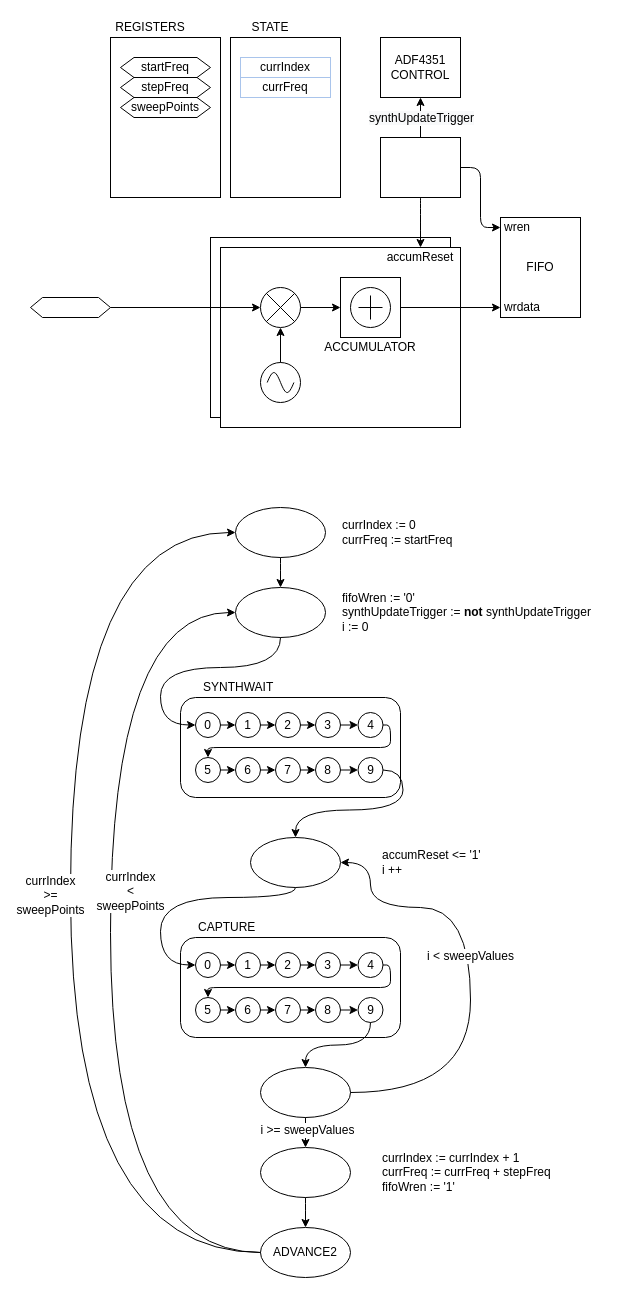
Some shapes in this 628 by 1295 pixel diagram are drawn without their labels. Each missing label, with the centre of its shape:
"ADVANCE" goes at point 305,1172.
"din" goes at point 70,307.
"EMIT" goes at point 305,1092.
"RESET" goes at point 280,532.
"START" goes at point 295,862.
"STATE MACHINE" goes at point 420,167.
"SYNTHSET" goes at point 280,612.
